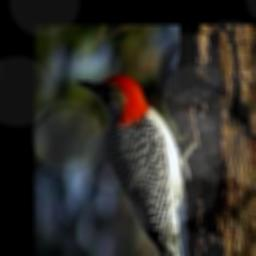Woodpecker: (77, 74, 194, 256)
